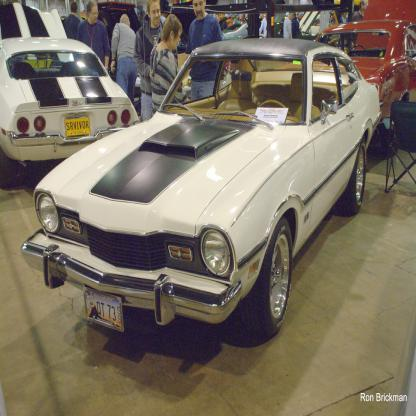Car: (0, 0, 415, 342)
